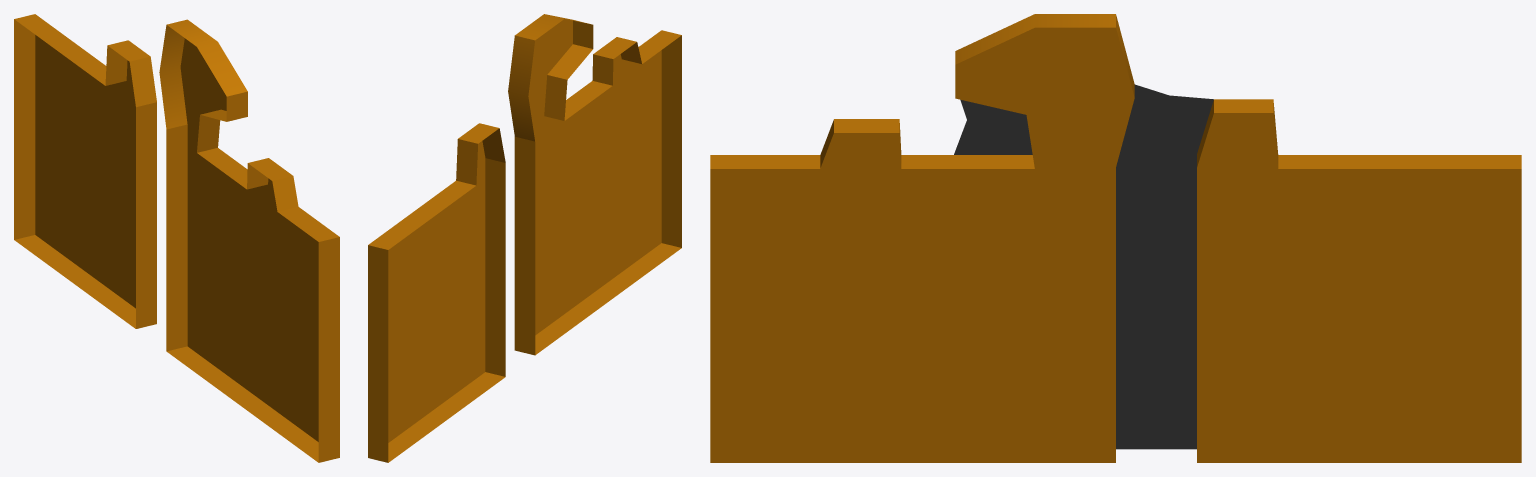
Rendered from chasm_left.fbx.
3 views of the same model, side by side, from view 1: azimuth 30°, elevation 25°; view 2: azimuth 150°, elevation 25°; view 3: azimuth 270°, elevation 25° (orthographic). The views are drawn at different scales.
Parts seen in each view (by area): view 1: chasm_left; view 2: chasm_left; view 3: chasm_left, chasm_left1.
Boxes of the visible parts, left/top/right/bottom form: chasm_left: left=14, top=14, right=339, bottom=462; chasm_left: left=368, top=14, right=681, bottom=462; chasm_left: left=710, top=14, right=1521, bottom=462; chasm_left1: left=954, top=84, right=1213, bottom=449.
Bounding box in the file's own units: 1 × 14.8 × 25.
